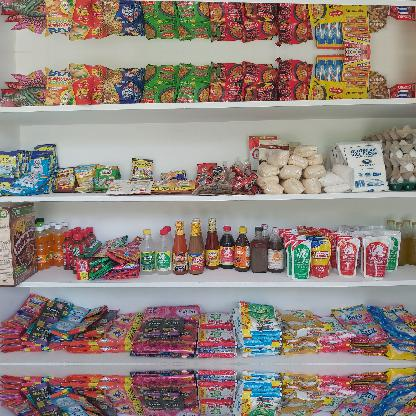Koko-Krunch: (1, 202, 40, 288)
